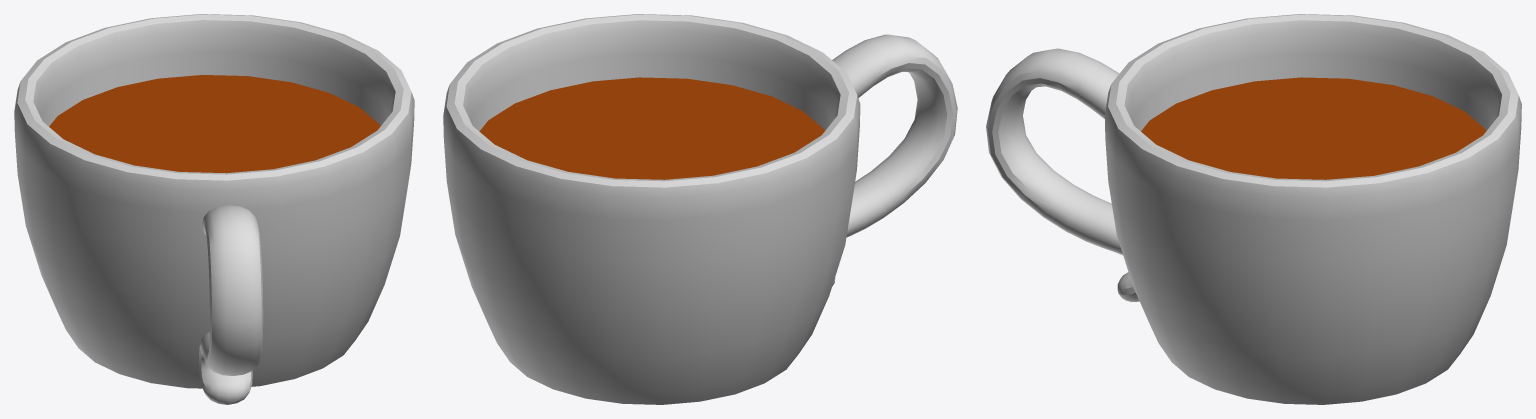
The model's file is cup.glb.
The picture shows the model from 3 angles, left to right: view 1: azimuth 30°, elevation 25°; view 2: azimuth 150°, elevation 25°; view 3: azimuth 270°, elevation 25°; orthographic projection. The views are drawn at different scales.
Parts seen in each view (by area): view 1: Cup of coffee; view 2: Cup of coffee; view 3: Cup of coffee.
Part boxes in pixels (x1=…): Cup of coffee: x1=14, y1=14, x2=414, y2=404; Cup of coffee: x1=443, y1=14, x2=957, y2=404; Cup of coffee: x1=986, y1=14, x2=1521, y2=404.
Size of the model in its own units: 1.69 by 1.12 by 2.17.
